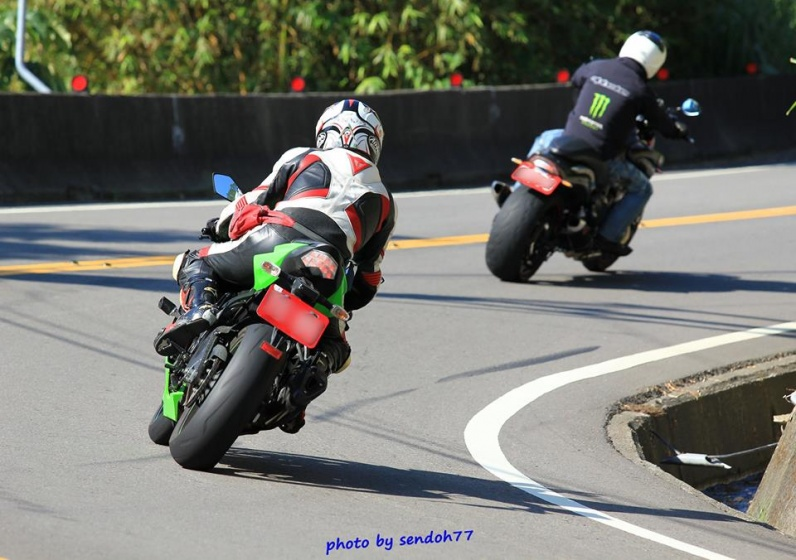helmet: (312, 101, 397, 161), (631, 27, 670, 77)
